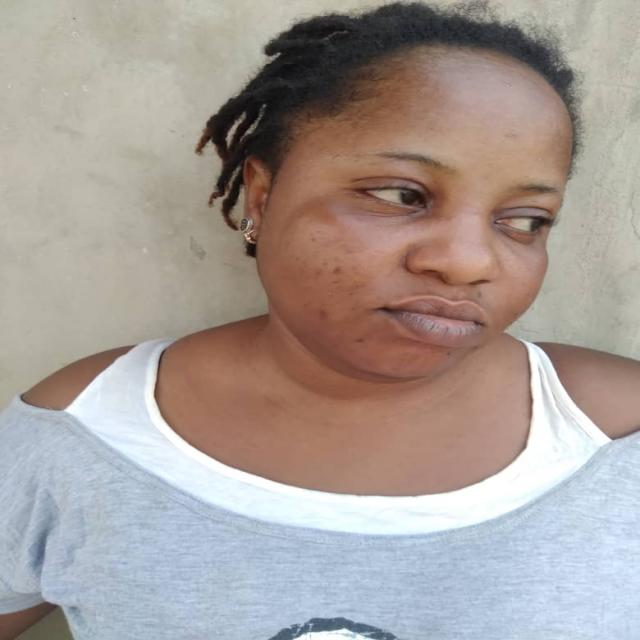sad: (232, 34, 572, 388)
